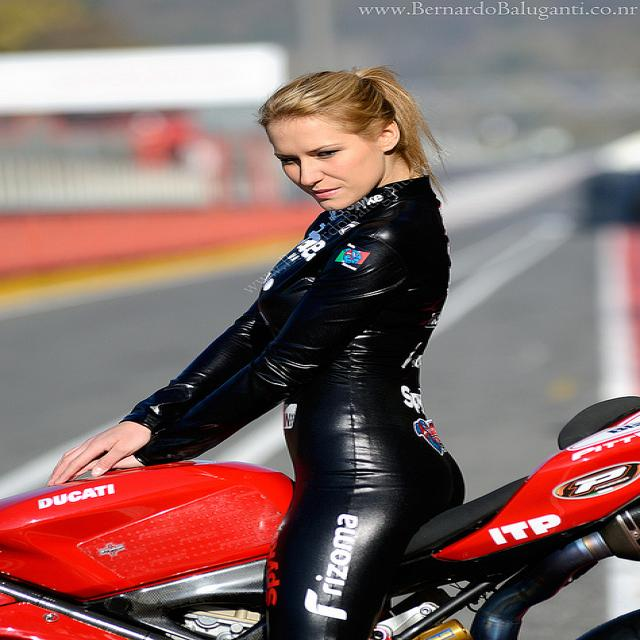motor: (1, 396, 640, 631)
